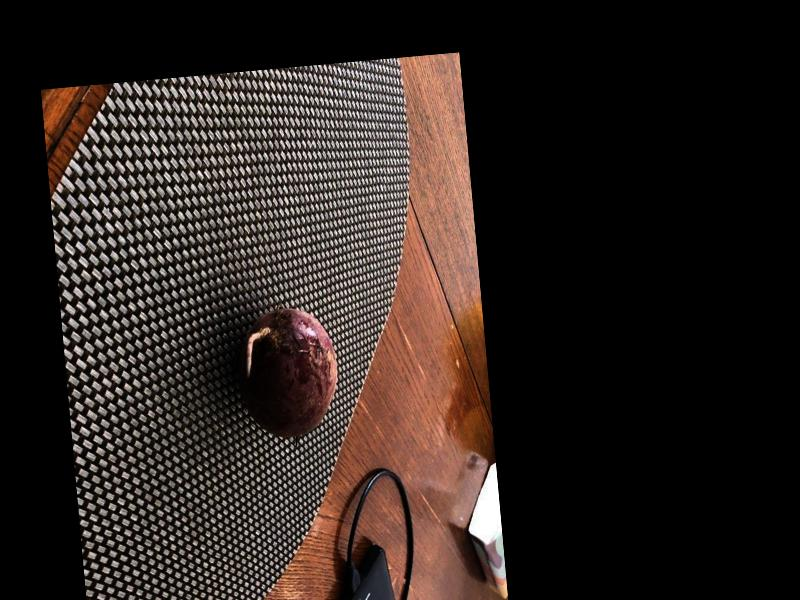Beet: (233, 304, 342, 441)
